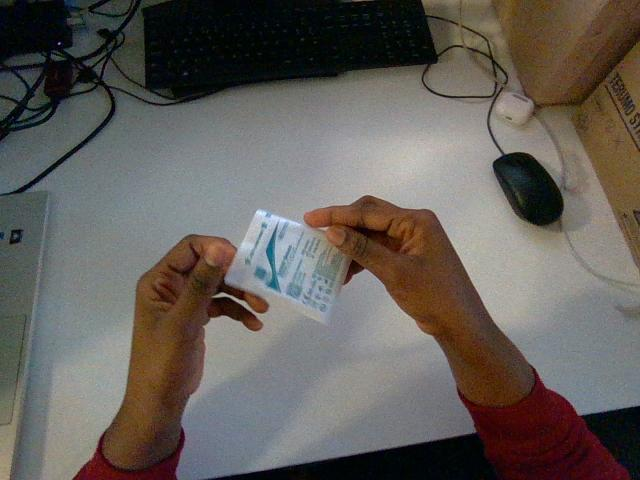gauze: (225, 210, 350, 323)
